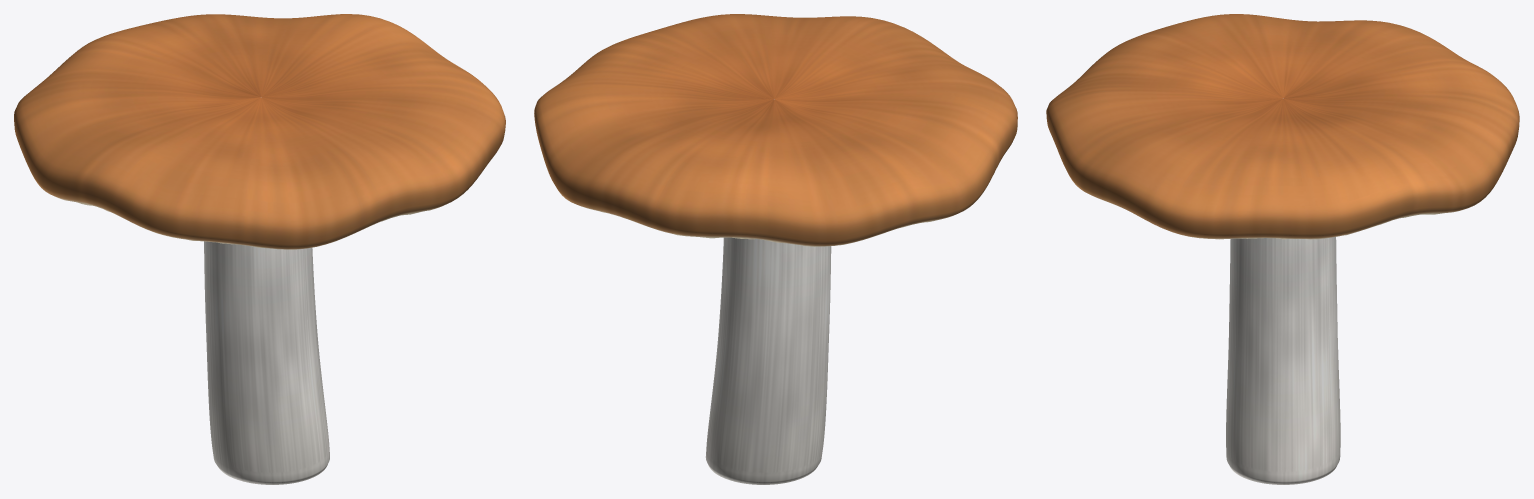
Rendered from russula-decolorans-agg-drawn.glb.
3 renders of one model, left to right at view 1: azimuth 30°, elevation 25°; view 2: azimuth 150°, elevation 25°; view 3: azimuth 270°, elevation 25°, orthographic. The views are drawn at different scales.
Bounding box in the file's own units: 0.8121 × 0.7111 × 0.8277.
1 material, 1 textured.
